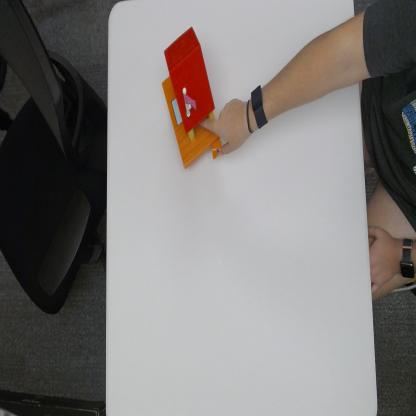Arm: (269, 15, 367, 122)
Hand: (204, 100, 256, 156)
House: (162, 25, 221, 171)
